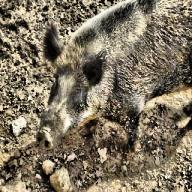boar: (34, 0, 192, 155)
